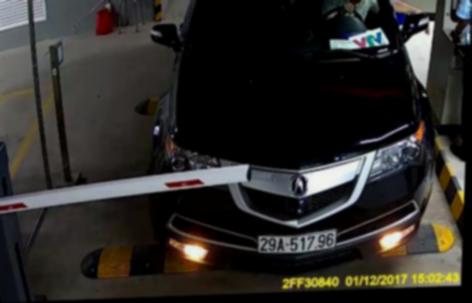License_Plate: (255, 226, 338, 256)
